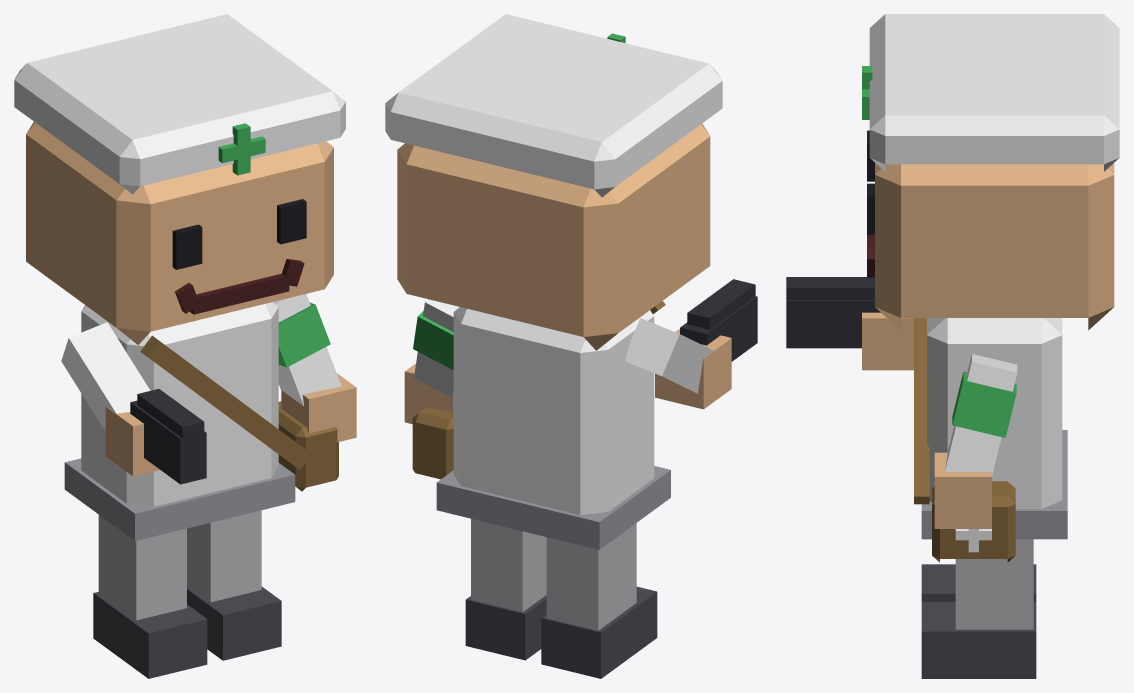
The model's file is medic_common.glb.
The picture shows the model from 3 angles, left to right: view 1: azimuth 30°, elevation 25°; view 2: azimuth 150°, elevation 25°; view 3: azimuth 270°, elevation 25°; orthographic projection. The views are drawn at different scales.
Visible parts, largest first — view 1: medic_common_mesh; view 2: medic_common_mesh; view 3: medic_common_mesh.
Part boxes in pixels (x1=…): medic_common_mesh: x1=14, y1=14, x2=356, y2=678; medic_common_mesh: x1=385, y1=14, x2=757, y2=678; medic_common_mesh: x1=786, y1=14, x2=1119, y2=678.
Bounding box in the file's own units: 0.6449 × 1.3 × 0.6764.
1 material, 1 textured.
